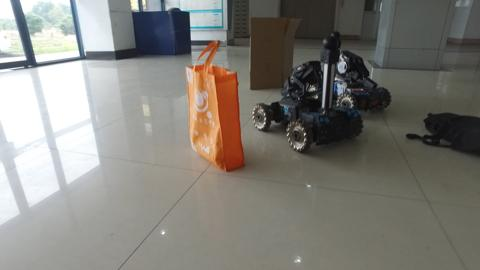bag: (183, 39, 245, 173)
box: (251, 14, 295, 91)
chariot: (254, 37, 366, 153), (333, 26, 389, 113)
